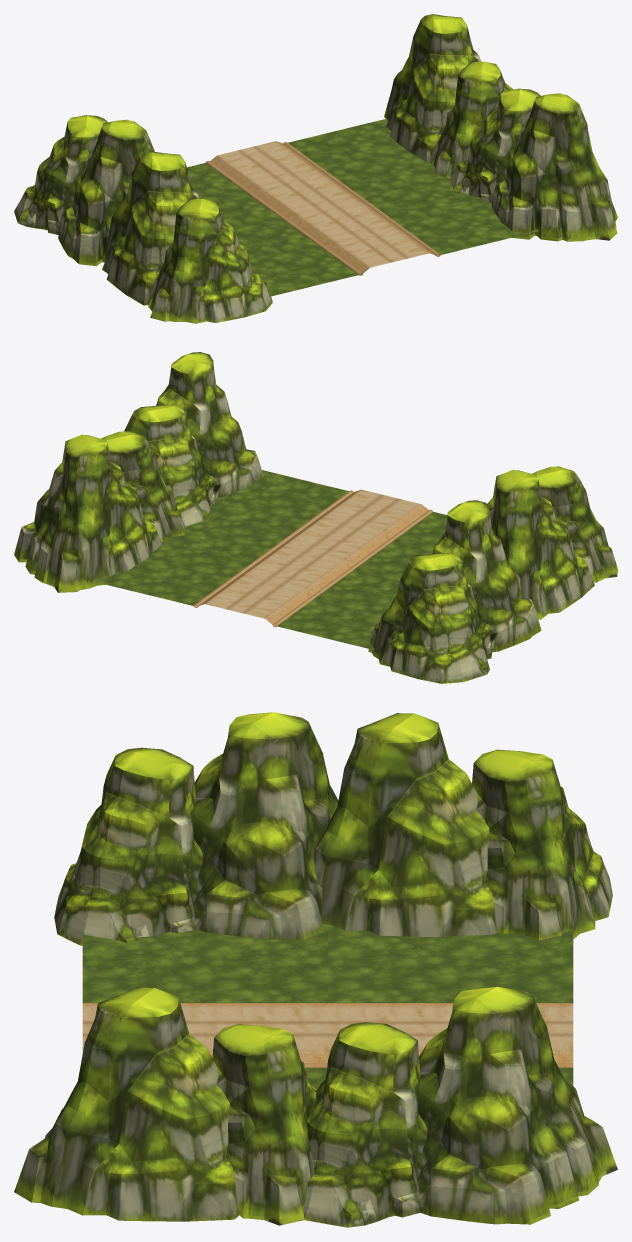
File: fromendlessfbx1.fbx
3 views of the same model, one above another, from view 1: azimuth 30°, elevation 25°; view 2: azimuth 150°, elevation 25°; view 3: azimuth 270°, elevation 25° (orthographic). The views are drawn at different scales.
Parts seen in each view (by area): view 1: track100; view 2: track100; view 3: track100.
Boxes of the visible parts, x1,y1,x2,y2 form: track100: [14, 14, 617, 323]; track100: [14, 352, 617, 683]; track100: [14, 712, 617, 1227].
Bounding box in the file's own units: 17761 × 4234 × 12315.
